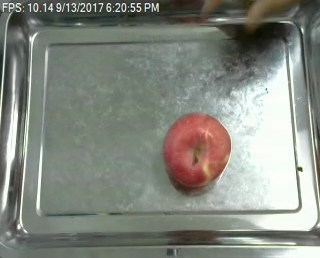Apple: (160, 111, 231, 190)
